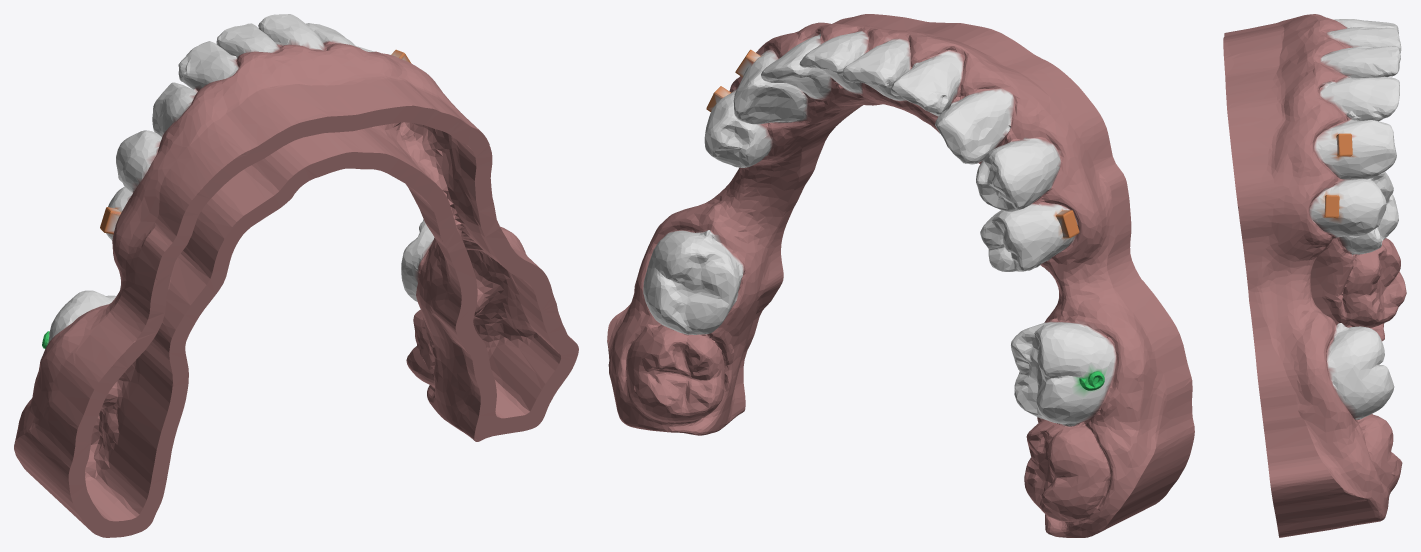
The model's file is lower-model-6.glb.
3 renders of one model, left to right at view 1: azimuth 30°, elevation 25°; view 2: azimuth 150°, elevation 25°; view 3: azimuth 270°, elevation 25°, orthographic. The views are drawn at different scales.
Visible parts, largest first — view 1: 6 (1); view 2: 6 (1); view 3: 6 (1).
Part boxes in pixels (x1,y1,x2,y2): 6 (1): [14, 14, 578, 537]; 6 (1): [607, 14, 1194, 537]; 6 (1): [1223, 14, 1406, 537].
Size of the model in its own units: 64.23 by 50.23 by 20.71.
